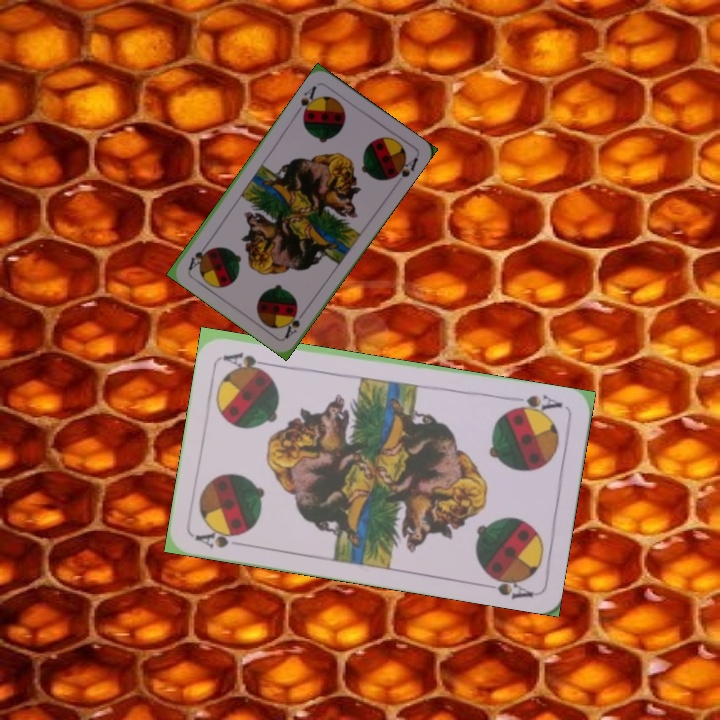SA: (506, 390, 565, 418), (191, 523, 250, 551), (292, 82, 321, 120), (280, 305, 309, 341)
